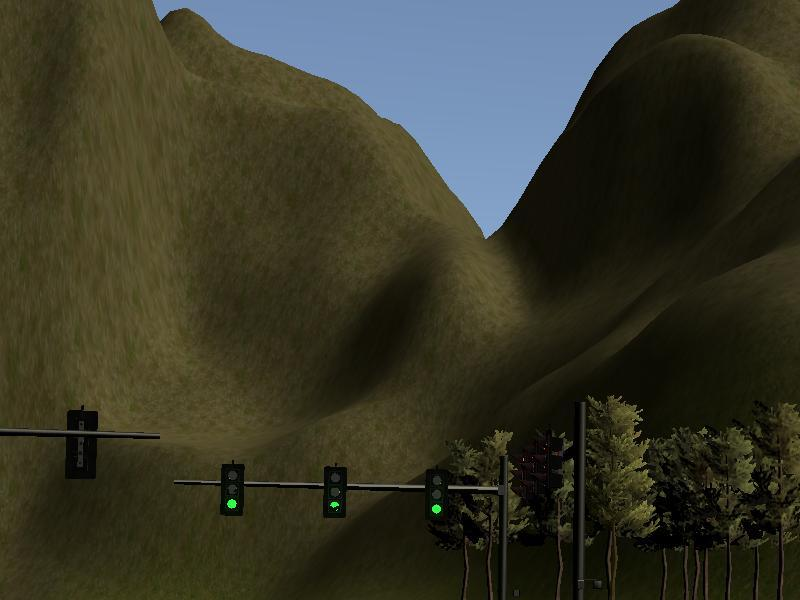Green: (324, 467, 345, 517), (429, 471, 447, 521), (223, 465, 241, 514)
